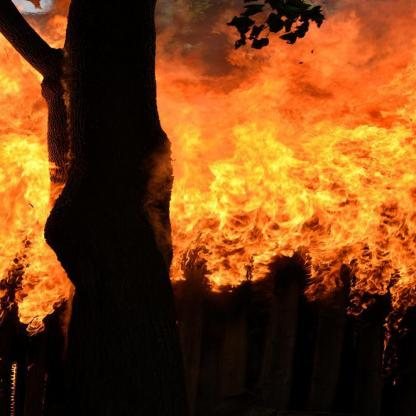fire: (159, 39, 415, 285), (1, 15, 69, 326)
